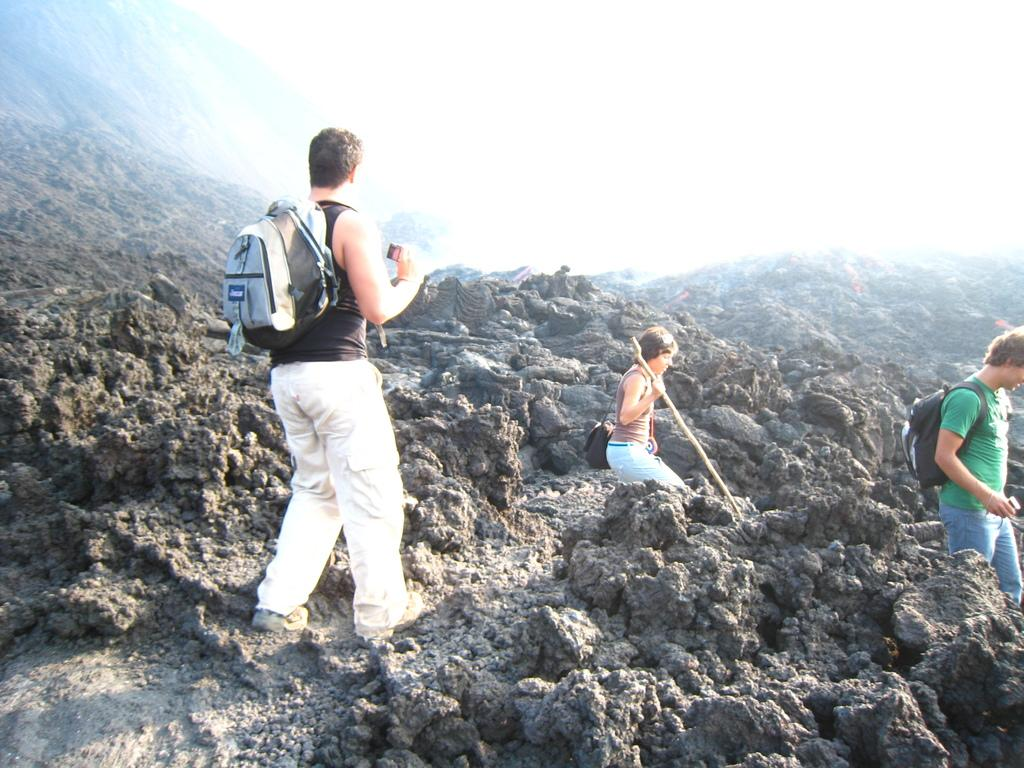Luggage-and-bags: (214, 202, 345, 357), (900, 377, 990, 488)
